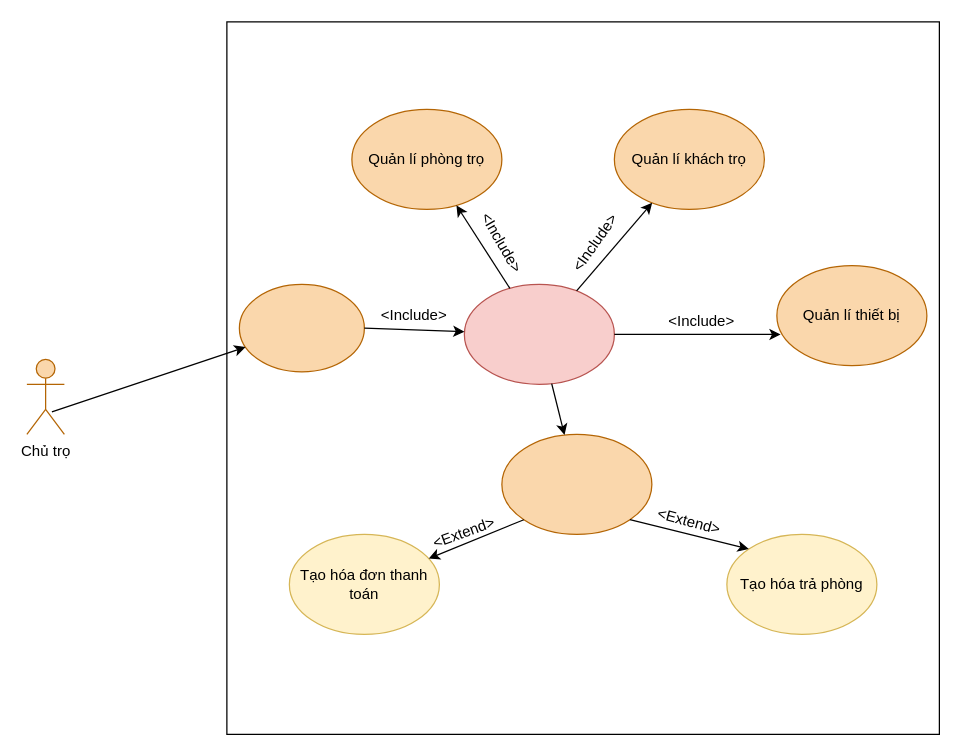
Some shapes in this 961 by 756 pixel diagram are drawn without their labels. Here are the shapes that lost their labels. From the top down, the centre of each, then its label:
At point (301, 327): "Đăng nhập".
At point (538, 333): "Quản lí".
At point (576, 483): "Quản lí hóa đơn".
